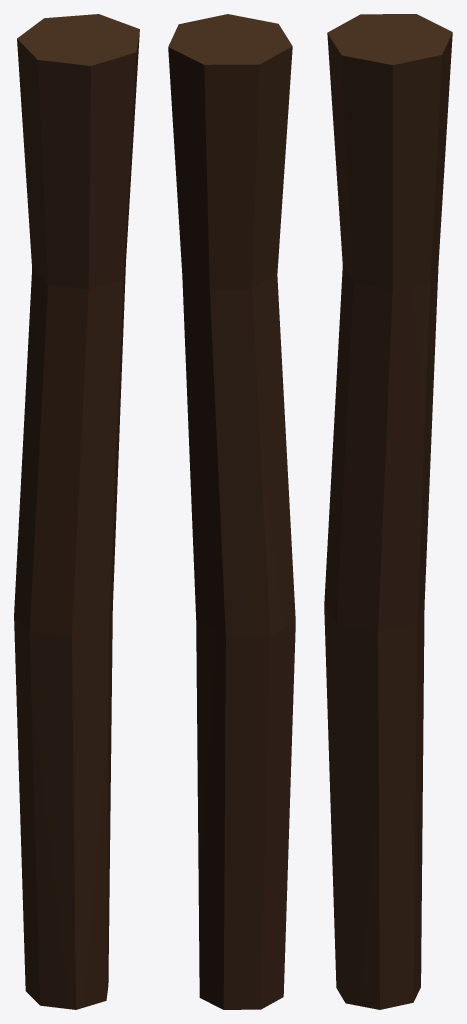
Rendered from Cave_Lair_Wooden_Timber_Pole_02.fbx.
3 views of the same model, side by side, from view 1: azimuth 30°, elevation 25°; view 2: azimuth 150°, elevation 25°; view 3: azimuth 330°, elevation 25° (orthographic).
Visible parts, largest first — view 1: Cave_Lair_Wooden_Timber_Pole_02; view 2: Cave_Lair_Wooden_Timber_Pole_02; view 3: Cave_Lair_Wooden_Timber_Pole_02.
Part boxes in pixels (<box>): Cave_Lair_Wooden_Timber_Pole_02: <box>14,14,139,1009</box>; Cave_Lair_Wooden_Timber_Pole_02: <box>168,14,295,1009</box>; Cave_Lair_Wooden_Timber_Pole_02: <box>324,14,452,1009</box>.
Bounding box in the file's own units: 0.2336 × 1.86 × 0.2159.
